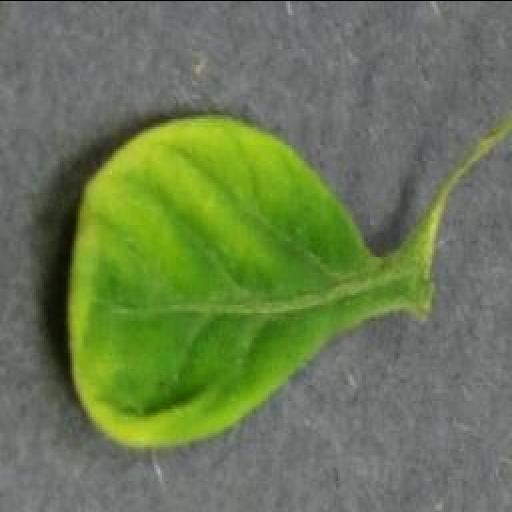disease_tomato: (66, 114, 364, 448)
